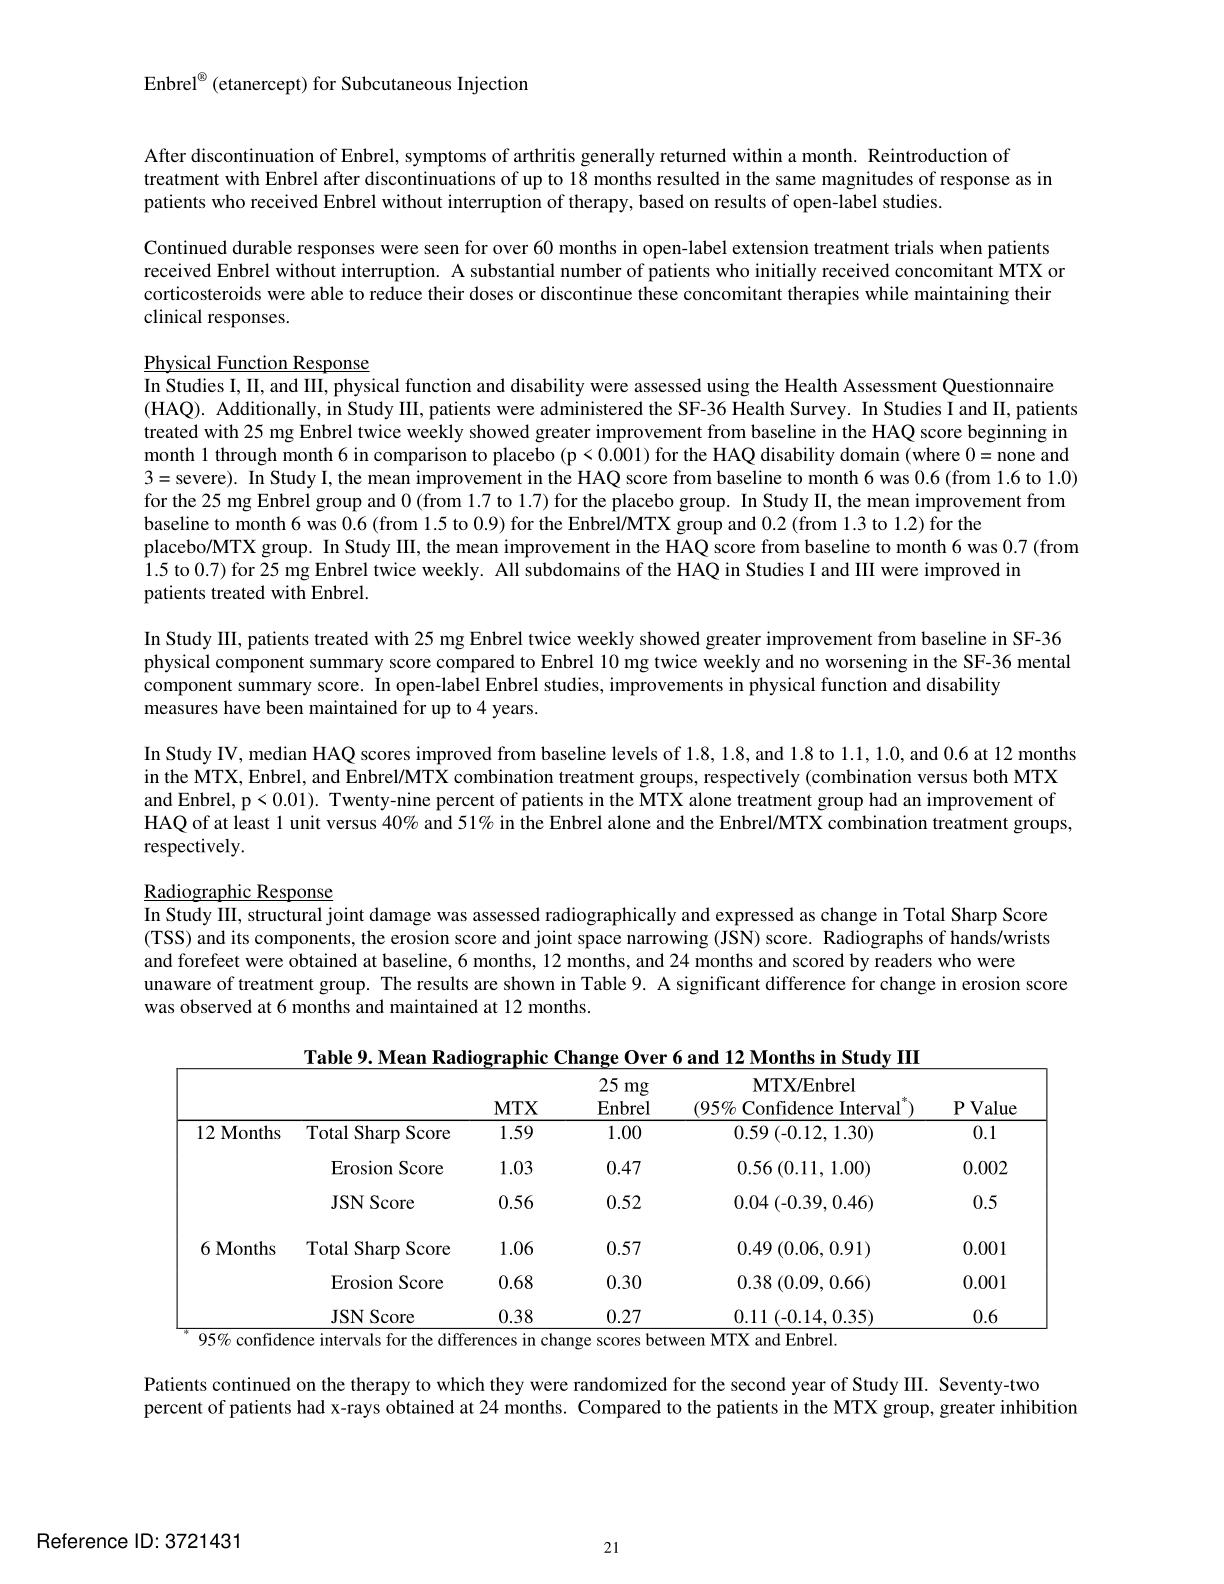partial_lined: (174, 1067, 1048, 1329)
